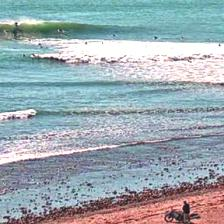surfer: (205, 39, 213, 42), (57, 28, 62, 32), (40, 46, 46, 49), (32, 54, 36, 57), (15, 22, 18, 25), (113, 34, 116, 37), (154, 36, 157, 39), (218, 44, 222, 46), (23, 54, 25, 57), (38, 43, 41, 45), (85, 41, 87, 44), (101, 42, 103, 45), (59, 52, 61, 55), (181, 37, 184, 39), (0, 49, 1, 51)
